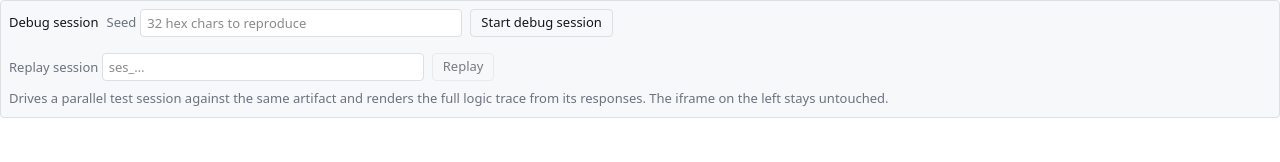
DebugPanel replay › a runtime refusal is shown as data, not a crash
Type "ses_01HQ8ZG7VYABCDEFGHJKMNPQRS" into the field with test id "debug-replay-id".
click(263, 67); type("ses_01HQ8ZG7VYABCDEFGHJKMNPQRS")  # box [102,53,424,81]
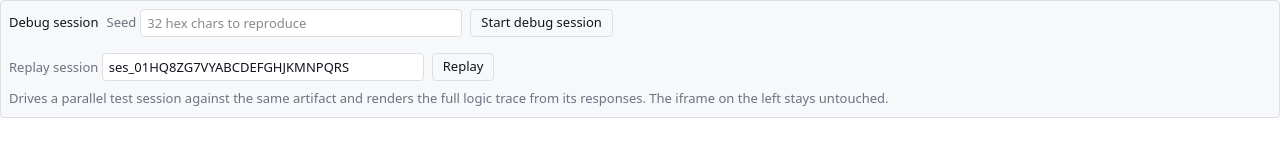
Click the button with test id "debug-replay-start".
click(463, 67)  # box [432,53,494,81]
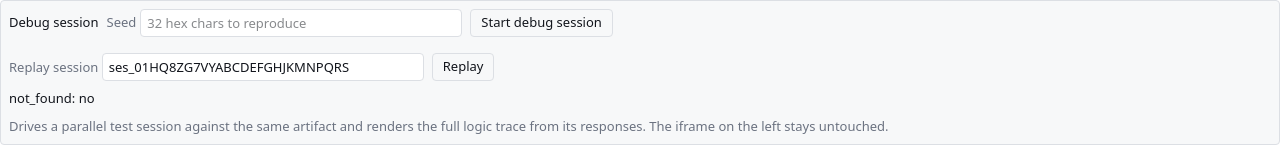
Result: the message shows "not_found" at [9,89,94,107]
